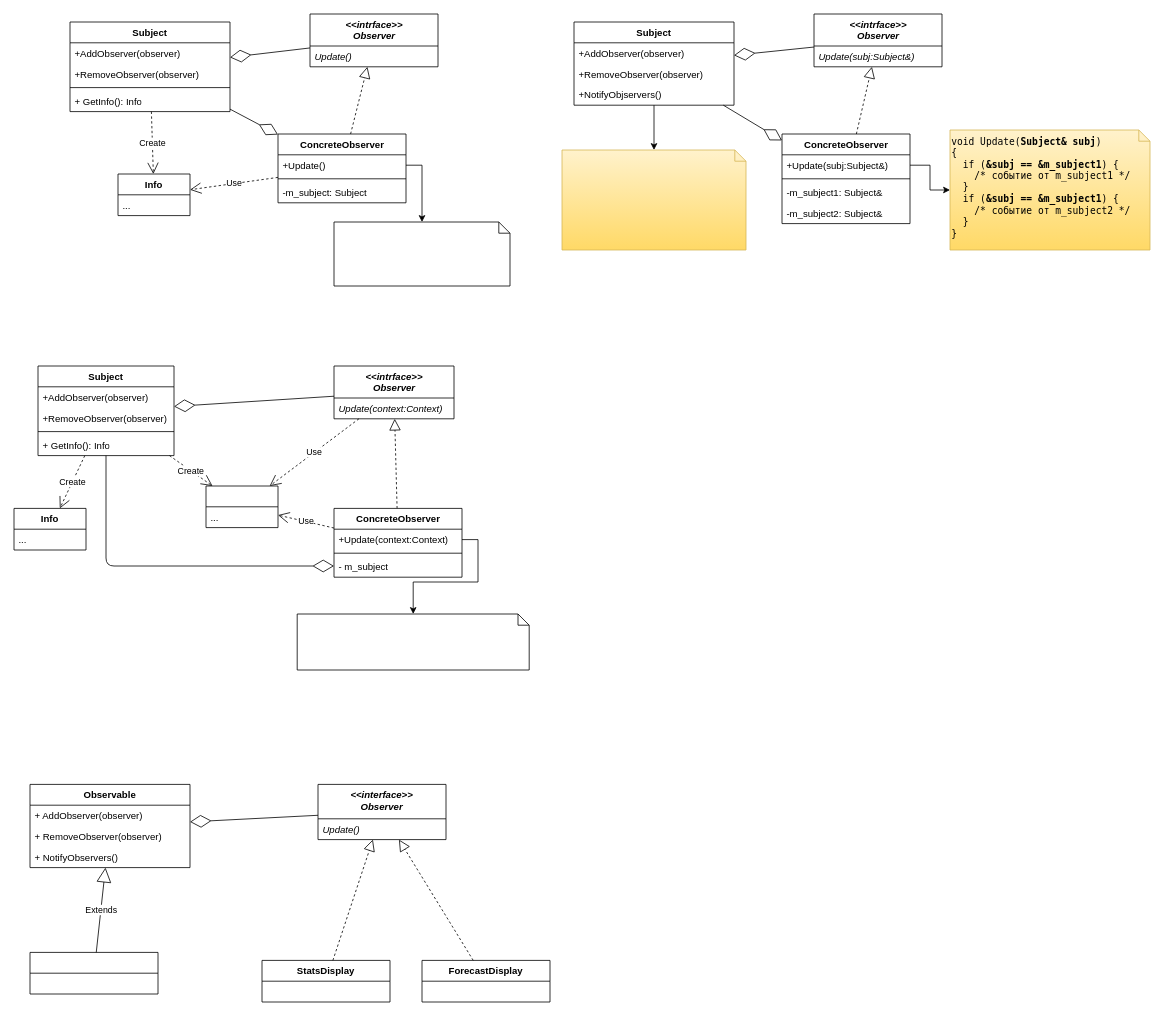
This 1164x1016 diagram has some shape labels left out. Each missing label, with the box of its shape:
Context: (205, 485, 278, 528)
void ConcreteObserver::Update() { Info info = m_subject.GetInfo(); ... }: (333, 221, 510, 286)
void ConcreteObserver::Update(Context context) { // use context ... }: (296, 613, 529, 670)
void NotifyObservers() { for (auto& o: m_observers) o->Update( *this ); }: (561, 149, 746, 250)
WeatherData: (29, 952, 158, 994)
